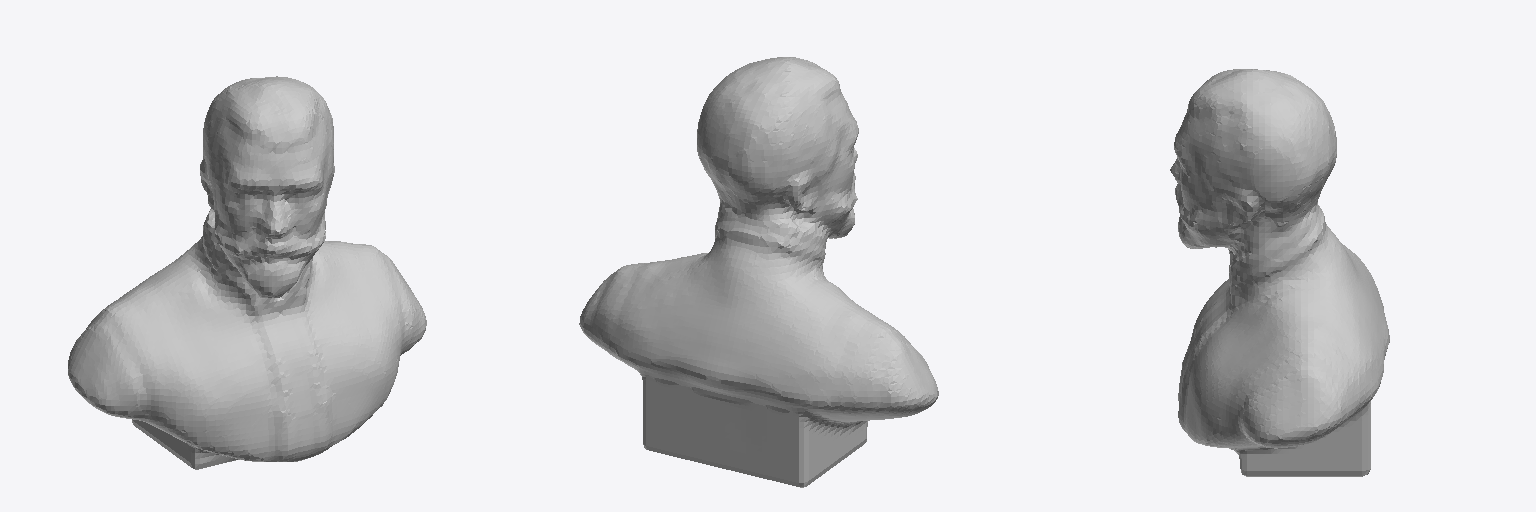
The model's file is Nikki15.obj.
3 renders of one model, left to right at view 1: azimuth 30°, elevation 25°; view 2: azimuth 150°, elevation 25°; view 3: azimuth 270°, elevation 25°, orthographic.
Parts seen in each view (by area): view 1: никки15_retop; view 2: никки15_retop; view 3: никки15_retop.
Part boxes in pixels (x1,y1,x2,y2): никки15_retop: (68,76,426,469); никки15_retop: (579,57,938,487); никки15_retop: (1170,69,1389,476).
Size of the model in its own units: 2.58 by 2.66 by 1.44.